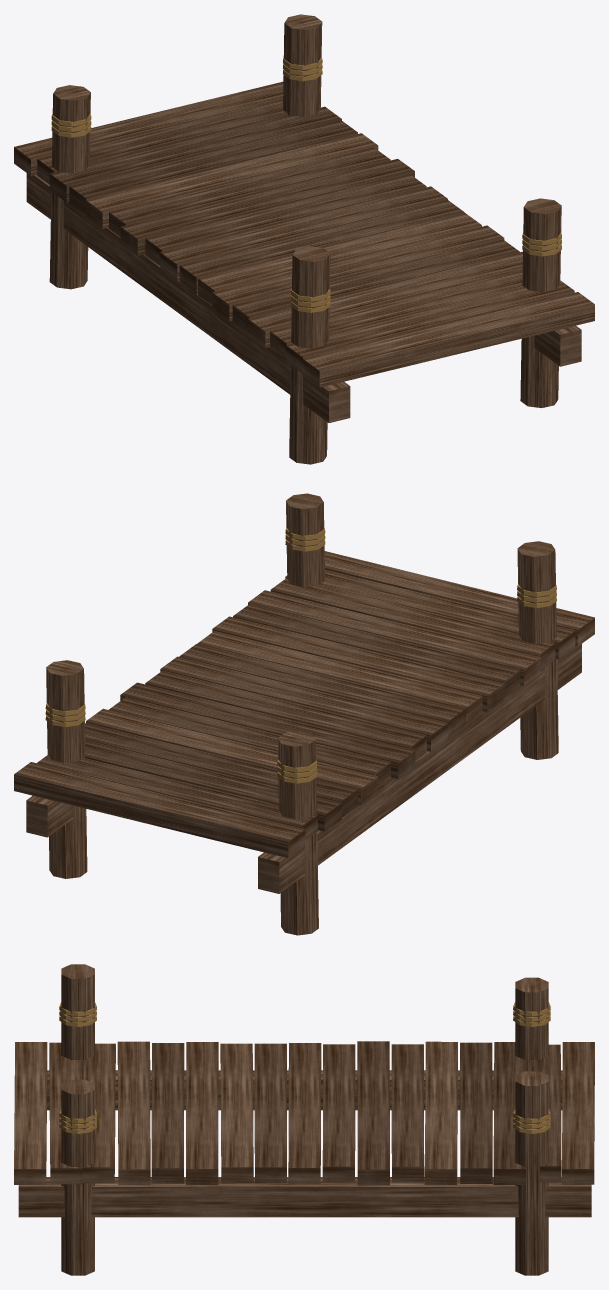
The model's file is dock.glb.
3 views of the same model, one above another, from view 1: azimuth 30°, elevation 25°; view 2: azimuth 150°, elevation 25°; view 3: azimuth 270°, elevation 25° (orthographic). The views are drawn at different scales.
Parts seen in each view (by area): view 1: dock; view 2: dock; view 3: dock.
Boxes of the visible parts, x1,y1,x2,y2 form: dock: (14,14,594,464); dock: (14,493,594,935); dock: (14,964,594,1275).
Size of the model in its own units: 2.09 by 1.46 by 3.99.
Materials: 2 (1 with a texture image).
